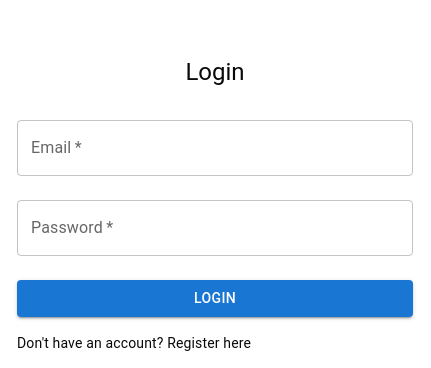
it: Login page › shows error snackbar on failure
Type "a@b.com" into the field labelled "Email *". click: (215, 148)
box: [17,120,413,176]
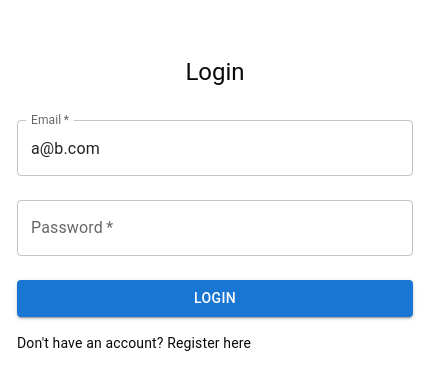
Type "bad" into the password field labelled "Password *". click: (215, 228)
box: [17,200,413,256]
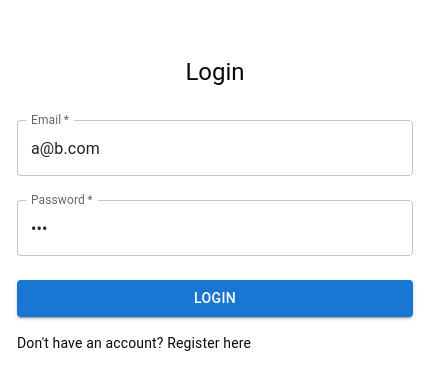
Click the button "Login". click: (215, 299)
box: [17,280,413,317]
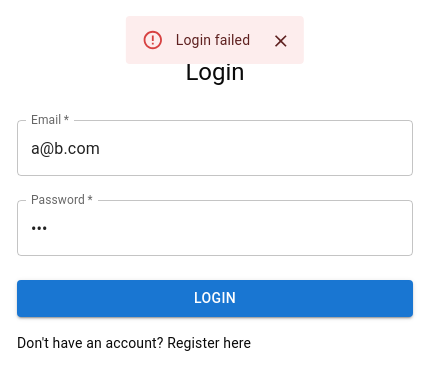
Now the message "Login failed" is shown, box [126,16,304,64]
